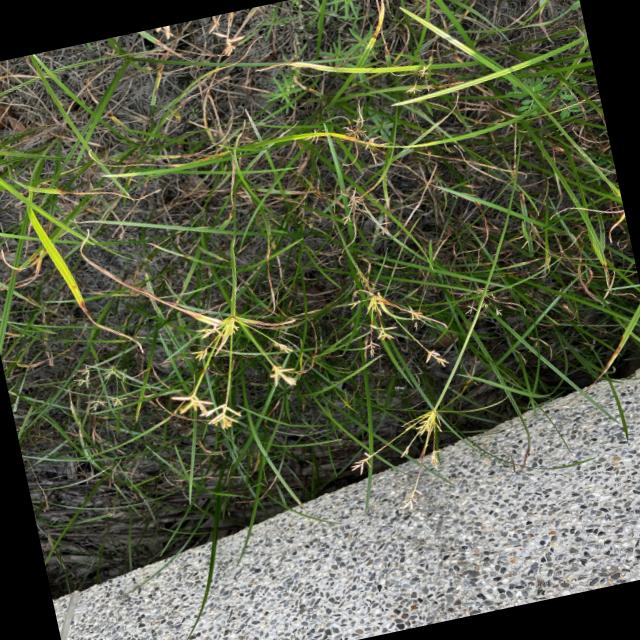cyperus: (152, 292, 322, 442), (340, 404, 474, 524), (342, 273, 460, 388), (320, 175, 407, 257), (322, 97, 394, 174), (66, 354, 138, 418), (454, 277, 506, 326), (204, 10, 251, 60), (396, 53, 446, 98)
